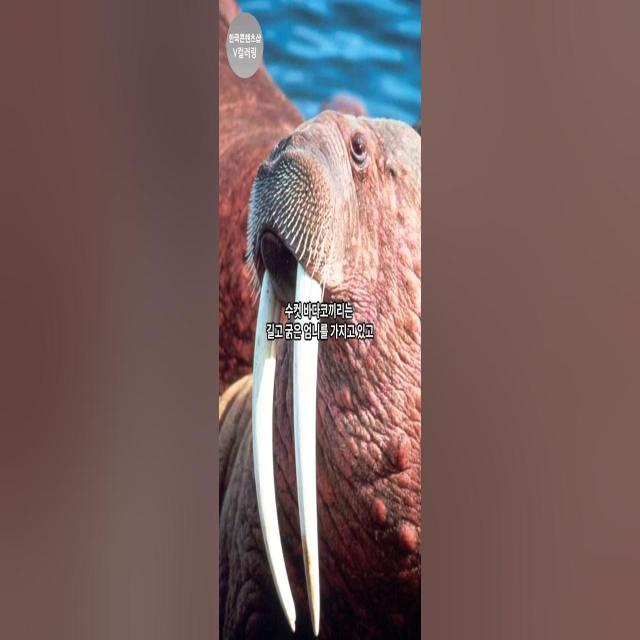walrus: (240, 102, 414, 640)
